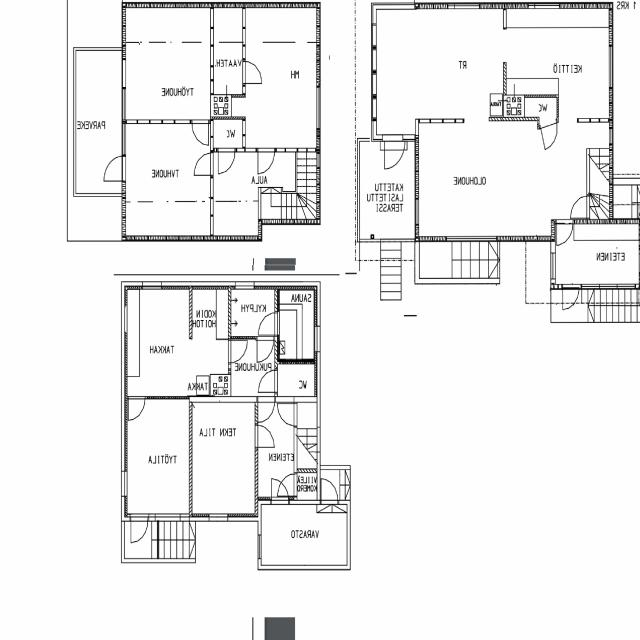door: (385, 134, 405, 168), (540, 119, 561, 150), (104, 156, 126, 181), (272, 474, 289, 505), (131, 513, 148, 544), (258, 313, 280, 335), (321, 477, 338, 505), (570, 195, 590, 218), (258, 396, 274, 424), (128, 396, 145, 422), (257, 336, 274, 362), (258, 148, 275, 174), (192, 120, 209, 146), (255, 425, 275, 447), (278, 474, 298, 496), (278, 404, 298, 426), (194, 153, 214, 175), (563, 284, 579, 311), (557, 219, 573, 246), (219, 148, 235, 175), (259, 370, 278, 392), (243, 61, 262, 83), (228, 341, 247, 362)
